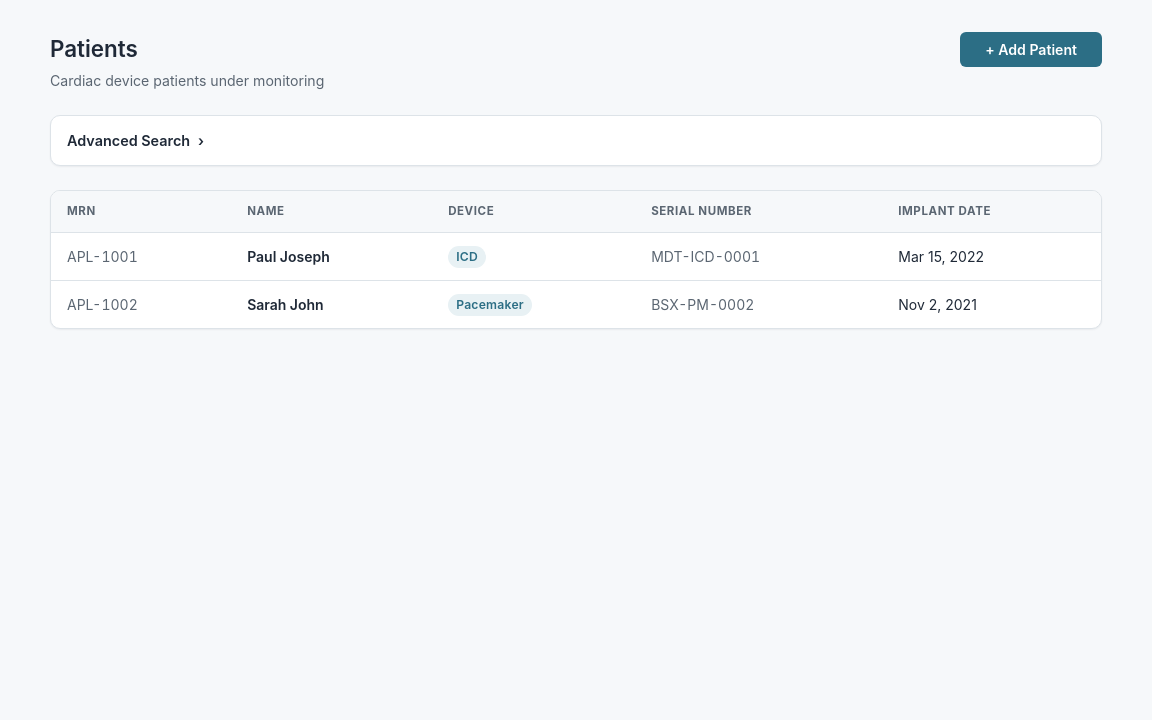
it: PatientsListComponent › opens the modal when the "+ Add Patient" button is clicked
Click the button with class "btn--primary".
click(1031, 50)  # box [960,32,1102,67]
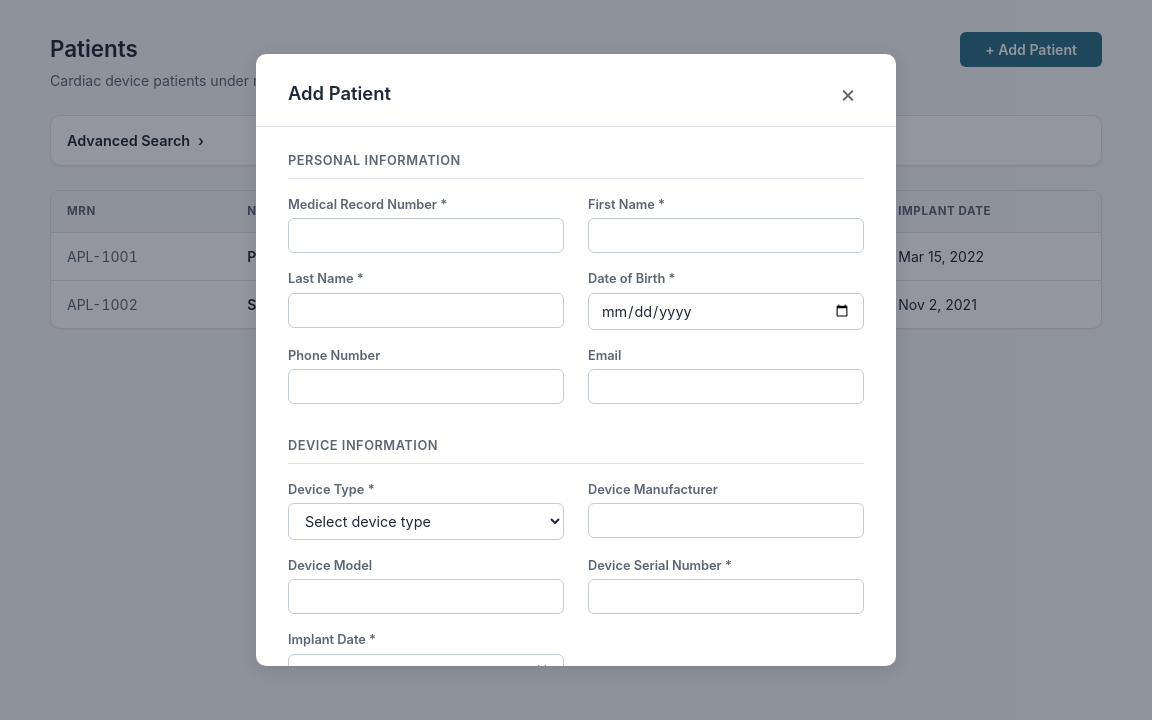
Expected: the element with class "modal-backdrop" is shown
Expected: the element that starts with "Add Patient" is shown, [256,54,896,666]
